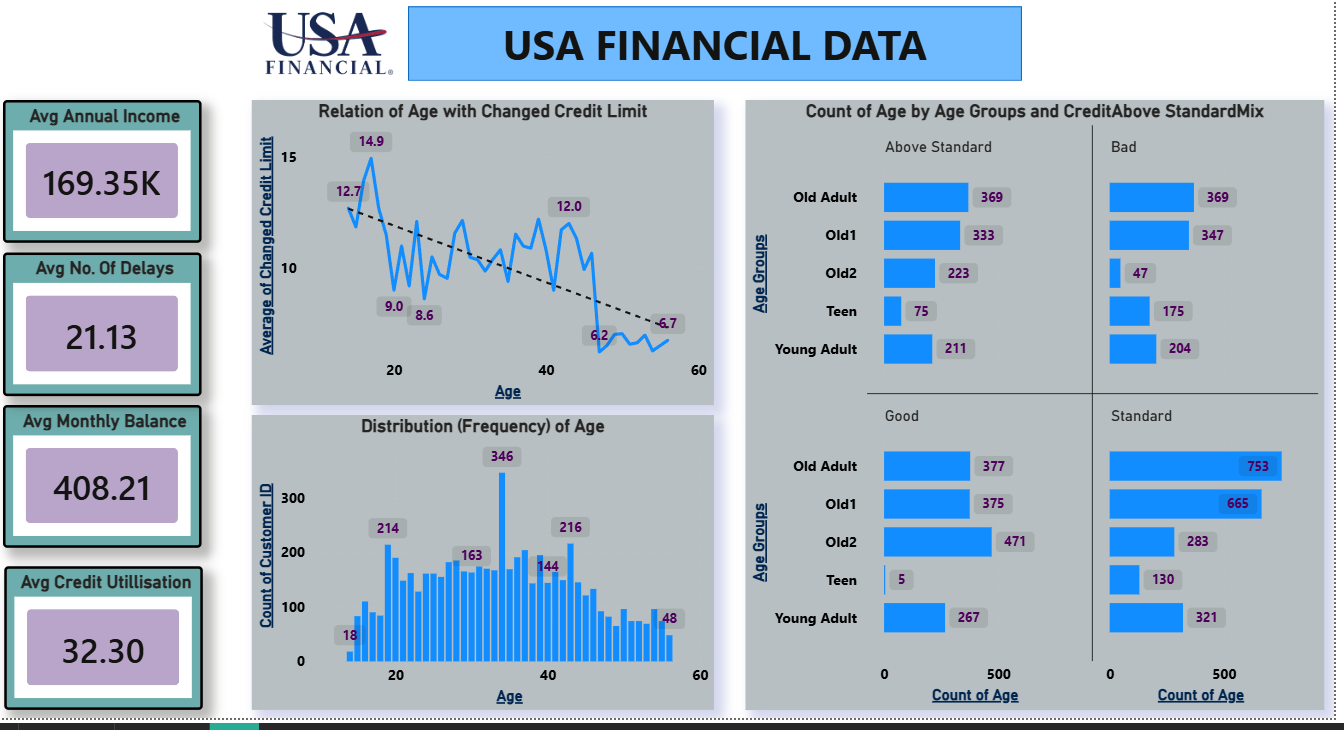

What the dashboard file says about the page in this screenshot:
{"tool":"powerbi","page":{"name":"Page 1","canvas":[1280,685],"ordinal":0},"visuals":[{"type":"cardVisual","title":"Avg Annual Income","fields":{"Data":["Avg(df.Annual Income)"]},"box":[18.9,99.4,188.2,134.9],"z":0},{"type":"cardVisual","title":"Avg Monthly Balance","fields":{"Data":["Avg(df.Monthly Balance)"]},"box":[18.9,388.2,188.2,134.9],"z":1000},{"type":"cardVisual","title":"Avg Credit Utillisation","fields":{"Data":["Avg(df.Credit Utilization Ratio)"]},"box":[20.1,540.9,188.2,136.1],"z":2000},{"type":"cardVisual","title":"Avg No. Of Delays","fields":{"Data":["Avg(df.Delay from due date)"]},"box":[18.9,243.8,188.2,136.1],"z":3000},{"type":"lineChart","title":"Relation of Age with Changed Credit Limit ","fields":{"Category":["df.Age"],"Y":["Avg(df.Changed Credit Limit)"]},"box":[254.5,99.4,437.9,288.8],"z":4000},{"type":"clusteredColumnChart","title":"Distribution (Frequency) of Age","fields":{"Category":["df.Age"],"Y":["CountNonNull(df.Customer ID)"]},"box":[254.5,397.7,437.9,279.3],"z":5000},{"type":"clusteredBarChart","fields":{"Y":["CountNonNull(df.Age)"],"Rows":["df.CreditAbove StandardMix"],"Category":["df.Age Groups"]},"box":[721.9,99.4,548,577.5],"z":6000},{"type":"shape","box":[402.7,10.8,581.3,70.7],"z":7000},{"type":"image","box":[264.9,10.8,123.4,70.7],"z":8000}]}

Visuals, with their boxes in screenshot pixels (x1, y1, x2, y2), scaled from the page's 1280x685 canvas onto the 1344x730 screenshot:
"Avg Annual Income" cardVisual: 20:106:217:250
"Avg Monthly Balance" cardVisual: 20:414:217:557
"Avg Credit Utillisation" cardVisual: 21:576:219:721
"Avg No. Of Delays" cardVisual: 20:260:217:405
"Relation of Age with Changed Credit Limit " lineChart: 267:106:727:414
"Distribution (Frequency) of Age" clusteredColumnChart: 267:424:727:721
clusteredBarChart - CountNonNull(df.Age) x df.CreditAbove StandardMix: 758:106:1333:721
shape: 423:12:1033:87
image: 278:12:408:87
